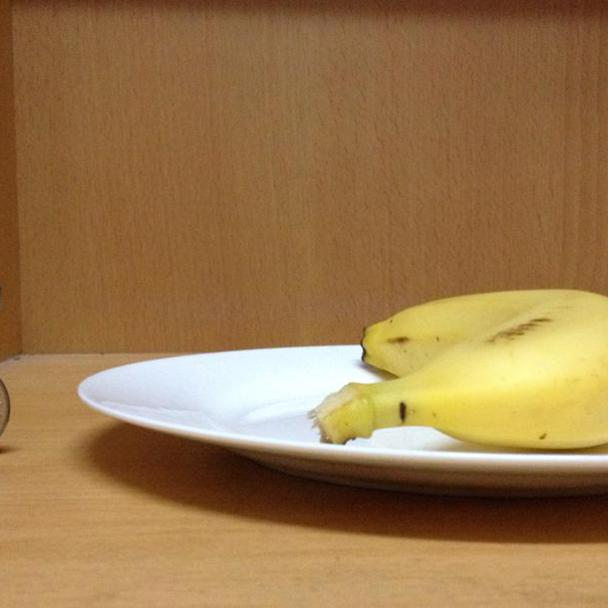banana: (315, 277, 608, 458)
